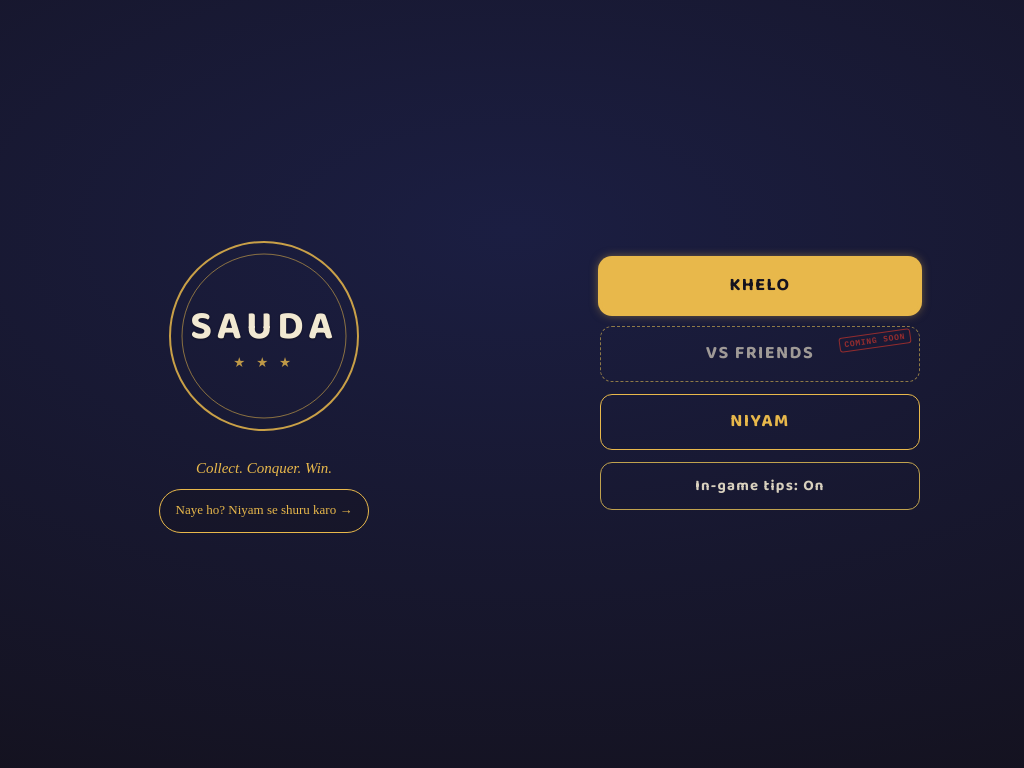
Test: App › KHELO → DEAL deals a game and shows the board
Click the button "KHELO" at (760, 286), box [600, 258, 920, 314]
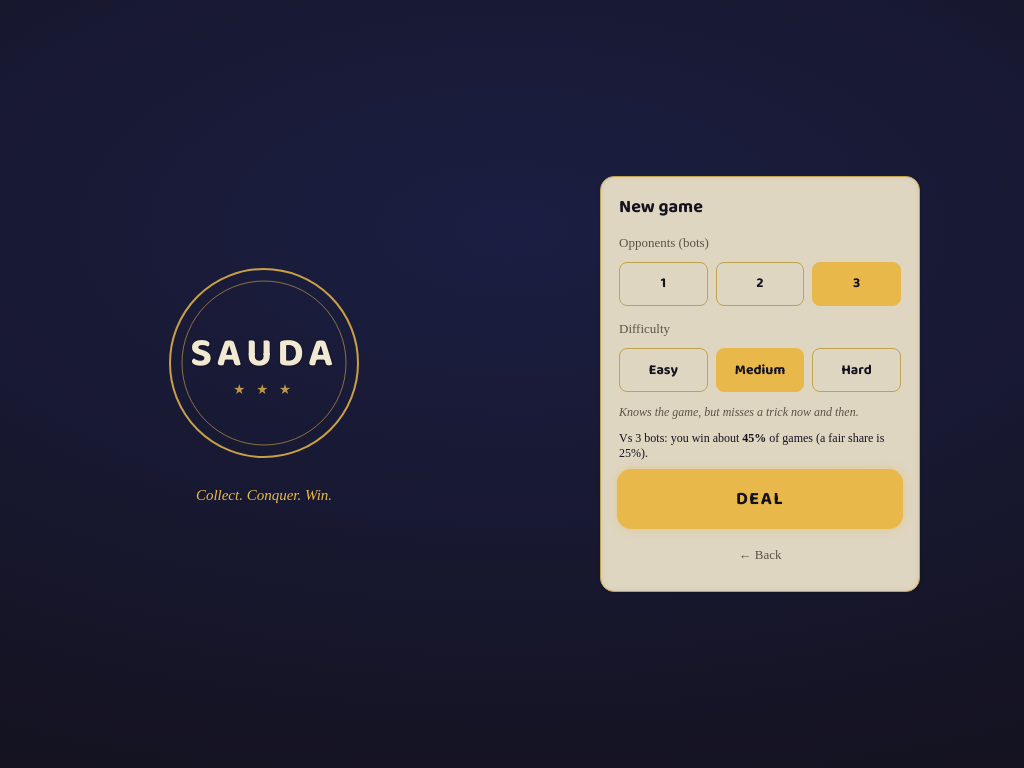
Click the button "DEAL" at (760, 499), box [619, 471, 901, 527]
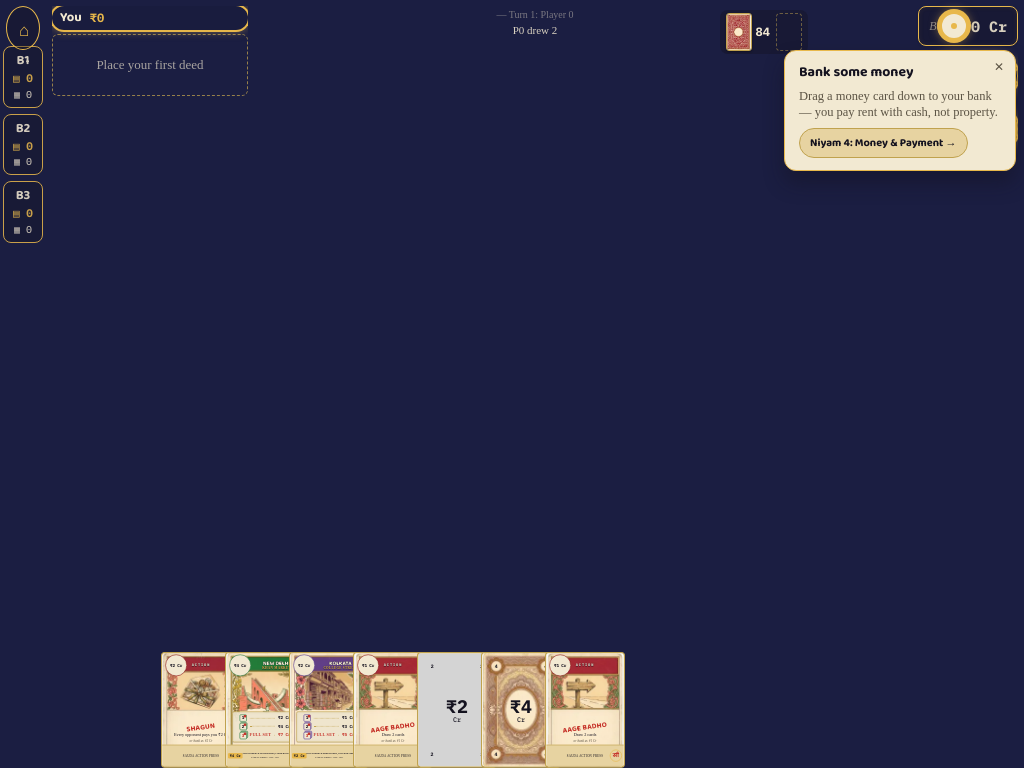
Now the text "You" is shown, box [60, 9, 82, 27]
